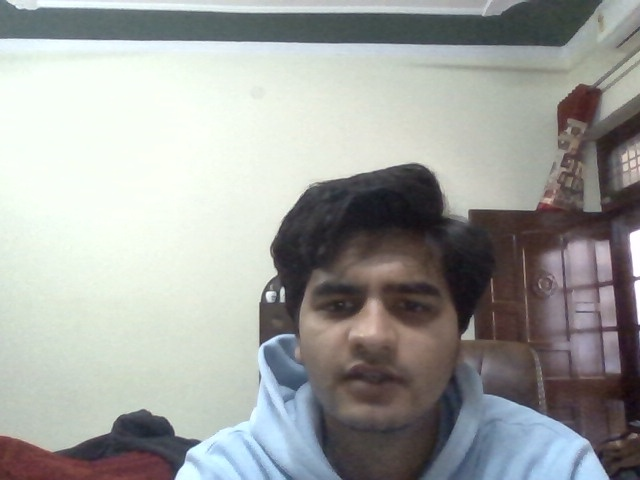anger: (314, 252, 436, 424)
